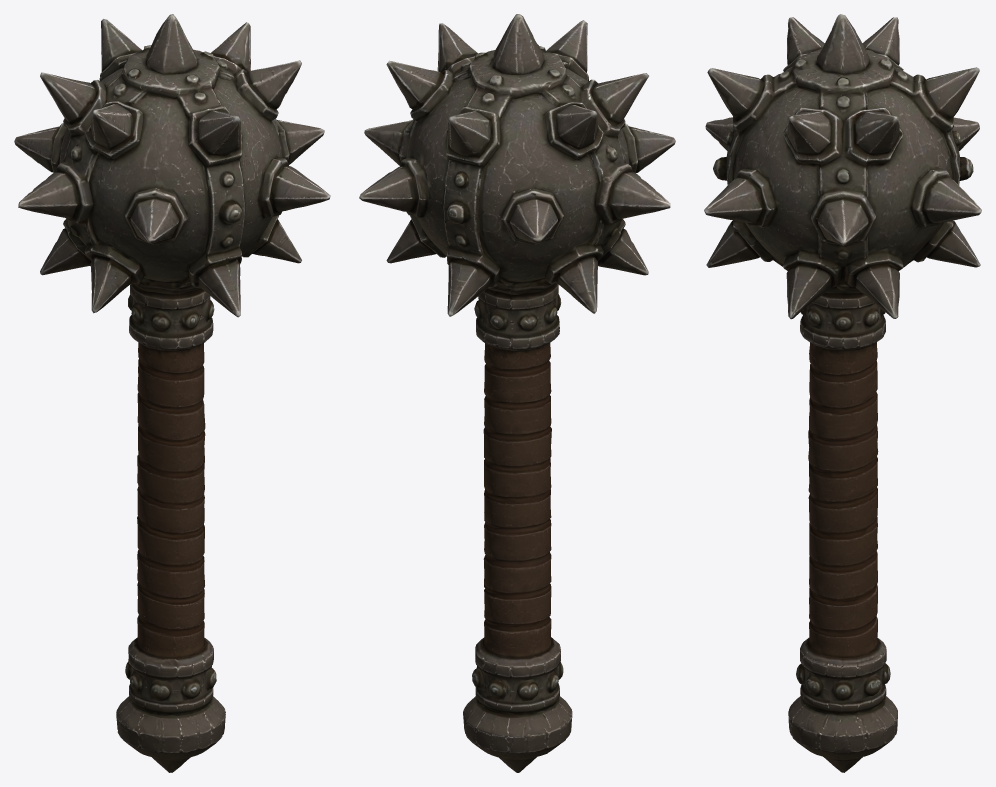
File: mace_spiked.fbx
3 views of the same model, side by side, from view 1: azimuth 30°, elevation 25°; view 2: azimuth 150°, elevation 25°; view 3: azimuth 270°, elevation 25° (orthographic).
Visible parts, largest first — view 1: Mace_spiked; view 2: Mace_spiked; view 3: Mace_spiked.
Boxes of the visible parts, x1,y1,x2,y2 form: Mace_spiked: (14,14,330,772); Mace_spiked: (359,14,675,772); Mace_spiked: (704,14,981,772).
Size of the model in its own units: 41.39 by 97.98 by 32.55.
1 material, 1 textured.
